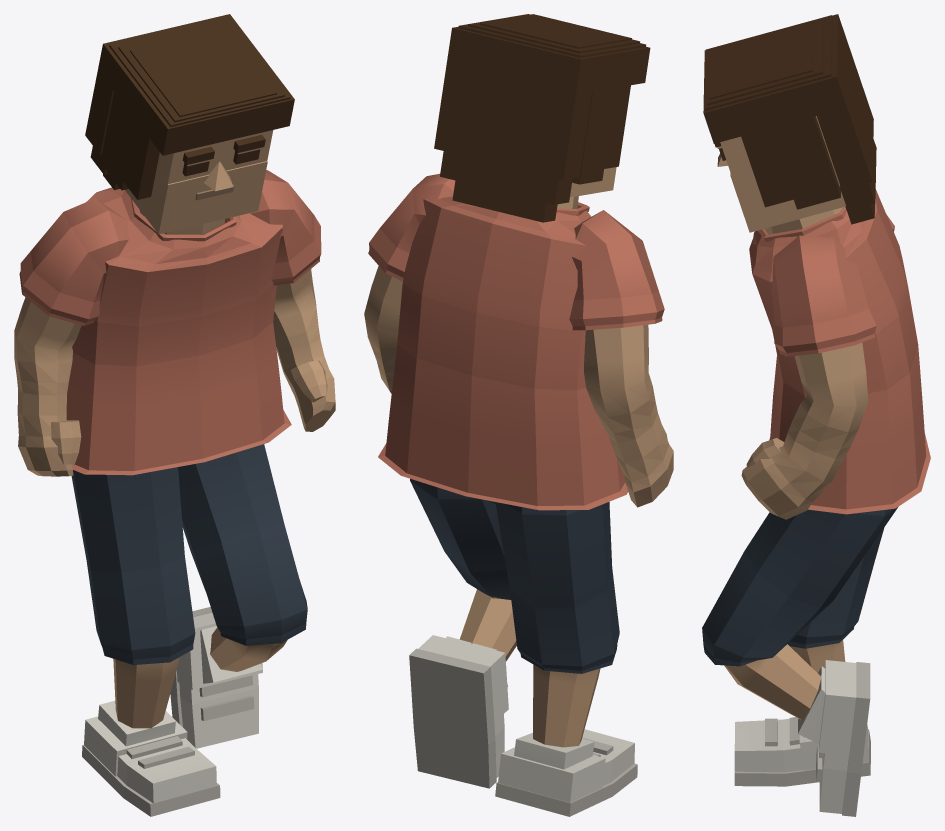
Rendered from neighborhood-child-8cc5ac__walk6.glb.
3 renders of one model, left to right at view 1: azimuth 30°, elevation 25°; view 2: azimuth 150°, elevation 25°; view 3: azimuth 270°, elevation 25°, orthographic. The views are drawn at different scales.
Visible parts, largest first — view 1: neighborhood-child-8cc5ac__walk6; view 2: neighborhood-child-8cc5ac__walk6; view 3: neighborhood-child-8cc5ac__walk6.
Boxes of the visible parts, x1=… form: neighborhood-child-8cc5ac__walk6: x1=14, y1=14, x2=335, y2=816; neighborhood-child-8cc5ac__walk6: x1=364, y1=14, x2=673, y2=816; neighborhood-child-8cc5ac__walk6: x1=702, y1=14, x2=930, y2=816.
Size of the model in its own units: 0.4841 by 1.18 by 0.3299.
